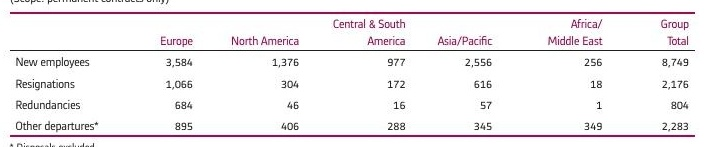table: (0, 0, 707, 147)
